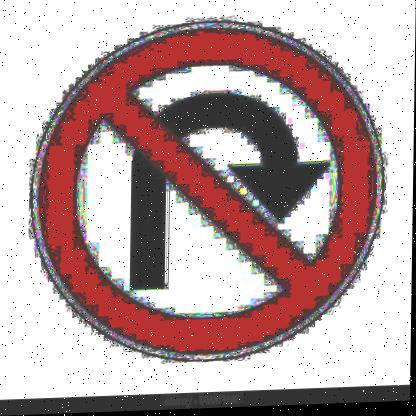No U-turn: (16, 13, 390, 373)
